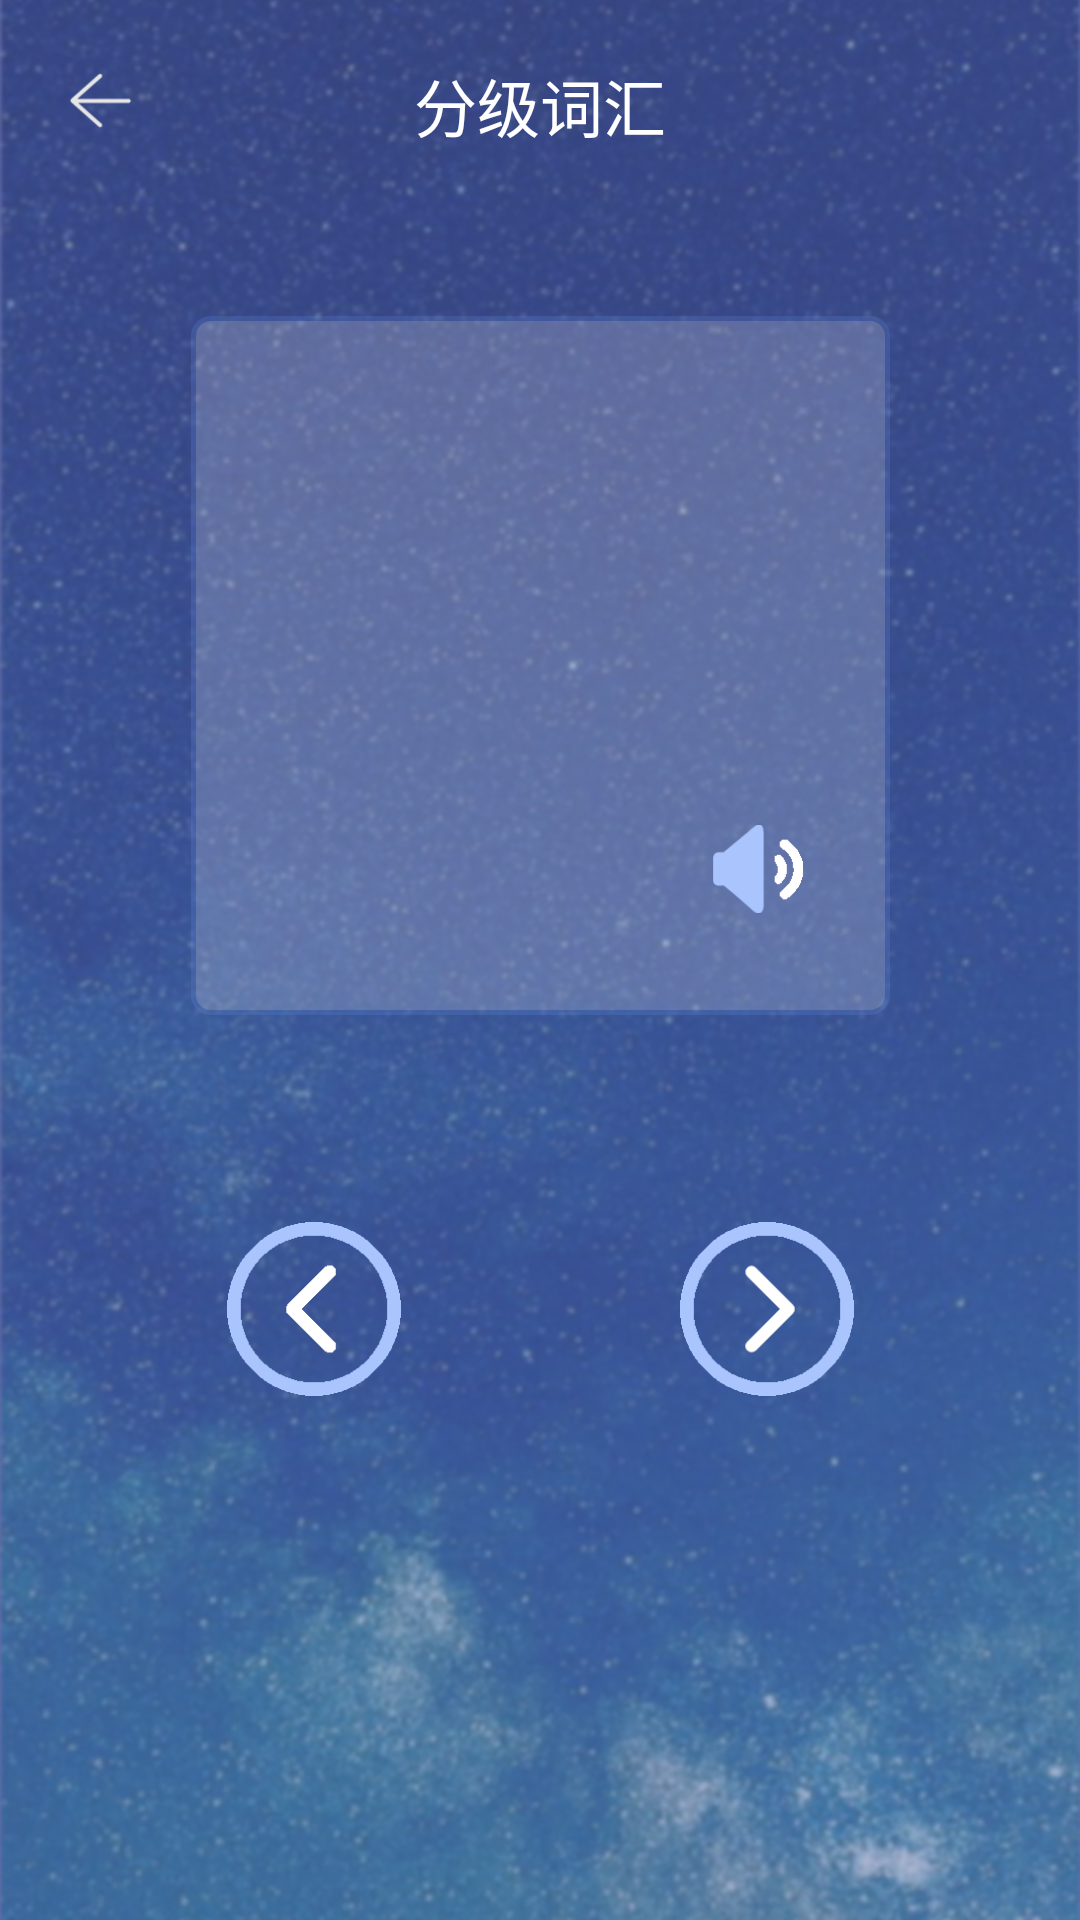

Screen size 1080px×1920px. Icon name, then its box in pixels as (x1, y1, x2, y2):
back: (70, 73, 131, 128)
speaker: (713, 825, 803, 913)
word left: (227, 1222, 401, 1396)
word right: (680, 1222, 854, 1396)
